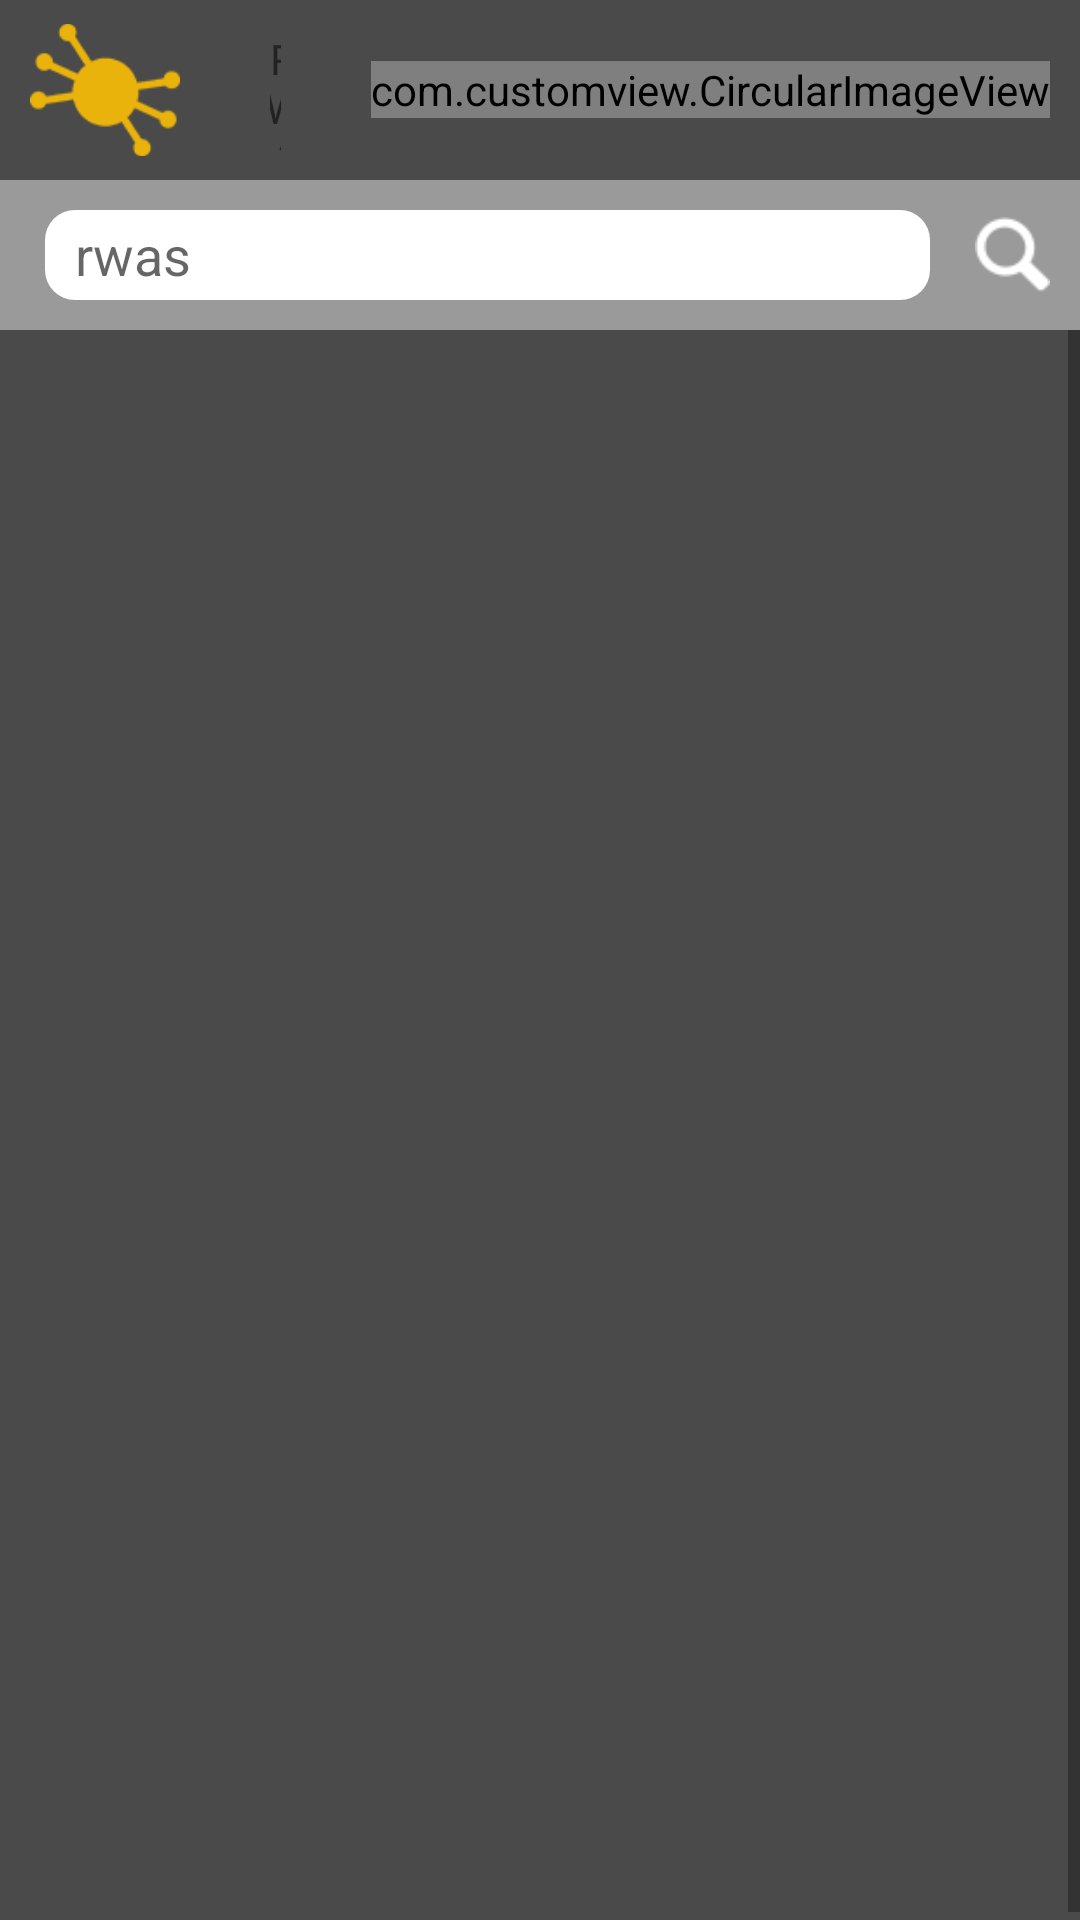

Icons on this 1080w x 1920h Android screen, each with the point to tap as (x,y):
search: (1012,254)
